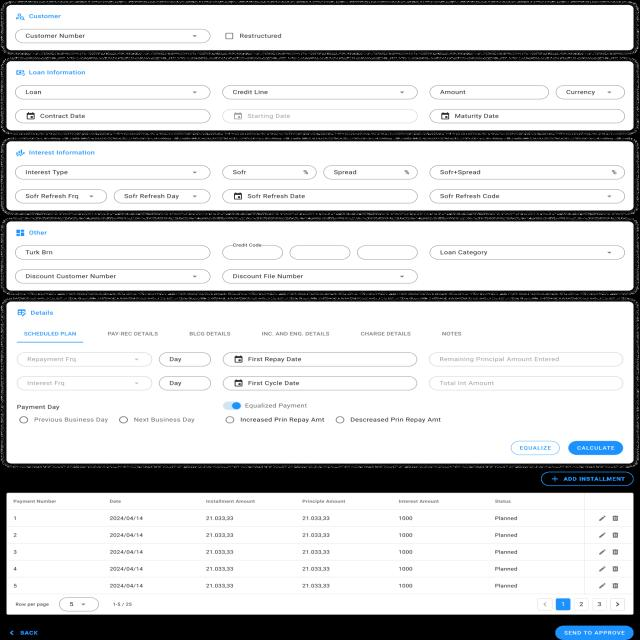QLabel: (28, 148, 96, 158), (563, 628, 626, 637), (29, 68, 87, 76), (13, 402, 63, 411), (562, 476, 627, 482), (28, 12, 64, 21), (574, 444, 616, 451), (29, 308, 58, 318), (28, 228, 50, 238), (518, 444, 552, 450), (18, 630, 39, 636)
VBtn: (541, 471, 633, 486), (555, 625, 633, 640), (510, 440, 560, 456), (568, 442, 623, 456), (4, 627, 42, 638)
VCard: (5, 302, 635, 464), (6, 142, 634, 212), (6, 61, 634, 130), (6, 222, 634, 290), (6, 4, 633, 51)
VCheckbox: (223, 31, 286, 42)
VCombobox: (428, 244, 626, 261), (14, 28, 210, 44), (222, 84, 418, 100), (15, 165, 211, 181), (15, 268, 210, 284), (429, 189, 625, 204), (222, 269, 418, 284), (16, 85, 210, 100), (16, 376, 152, 391), (17, 352, 152, 367), (114, 188, 210, 204), (15, 188, 107, 204), (556, 85, 626, 99)
VDataTable: (6, 492, 635, 616)
VIcon: (13, 11, 26, 23), (12, 147, 26, 158), (13, 308, 28, 318), (13, 68, 28, 77), (13, 228, 26, 238), (549, 475, 559, 483), (8, 630, 15, 636)
VInlineDatepicker: (223, 352, 418, 367), (222, 109, 418, 123), (222, 189, 418, 203), (15, 109, 210, 123), (430, 109, 625, 123), (222, 376, 417, 390)
VRadio: (332, 414, 448, 426), (222, 414, 326, 425), (16, 414, 112, 425), (118, 415, 196, 425)
VSwitch: (223, 400, 310, 411)
VTextField: (428, 351, 622, 367), (428, 376, 624, 391), (430, 165, 624, 180), (15, 246, 210, 260), (429, 86, 548, 100), (324, 164, 418, 180), (223, 165, 317, 180), (222, 243, 283, 260), (290, 245, 350, 260), (357, 245, 418, 259), (159, 352, 211, 366), (158, 376, 210, 390)
